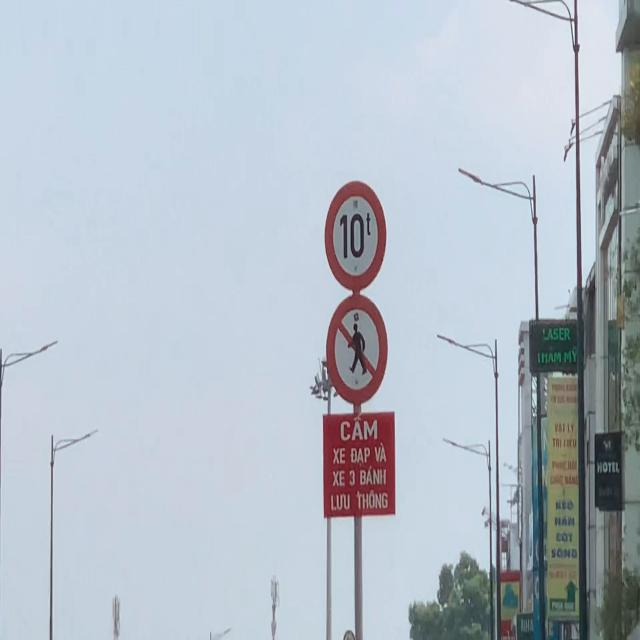Cam con lai: (327, 295, 388, 402)
Trong tai toi da: (323, 182, 389, 290)
